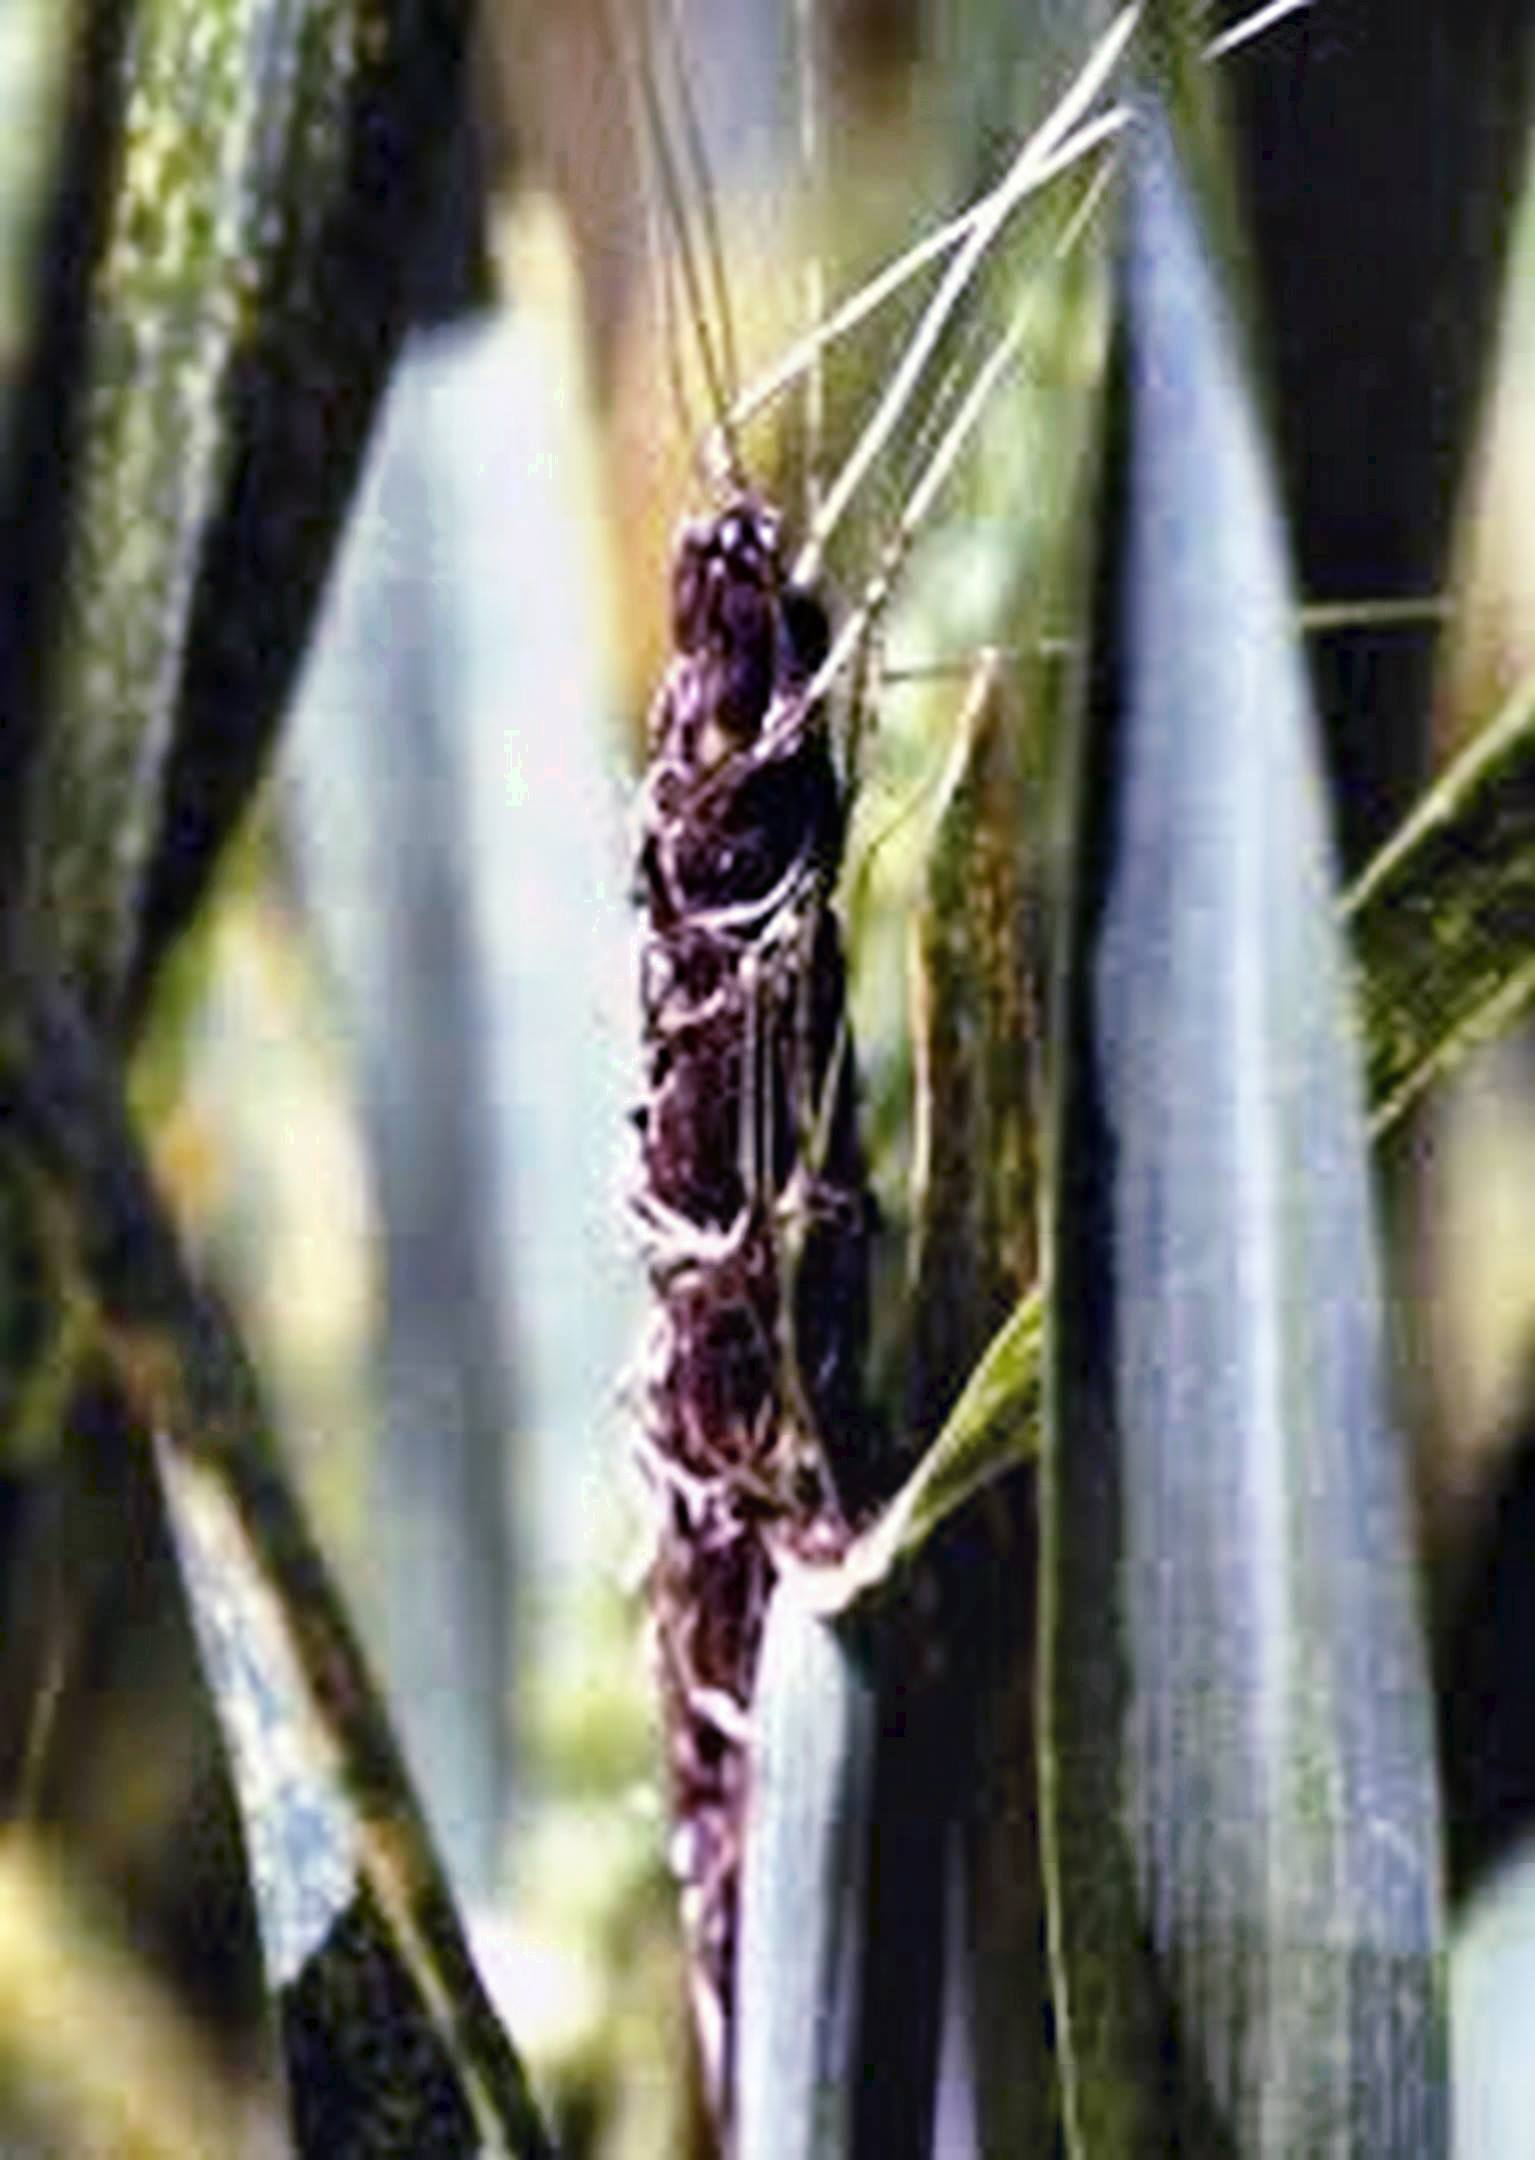Wheat Loose Smut: (553, 449, 910, 1879)
